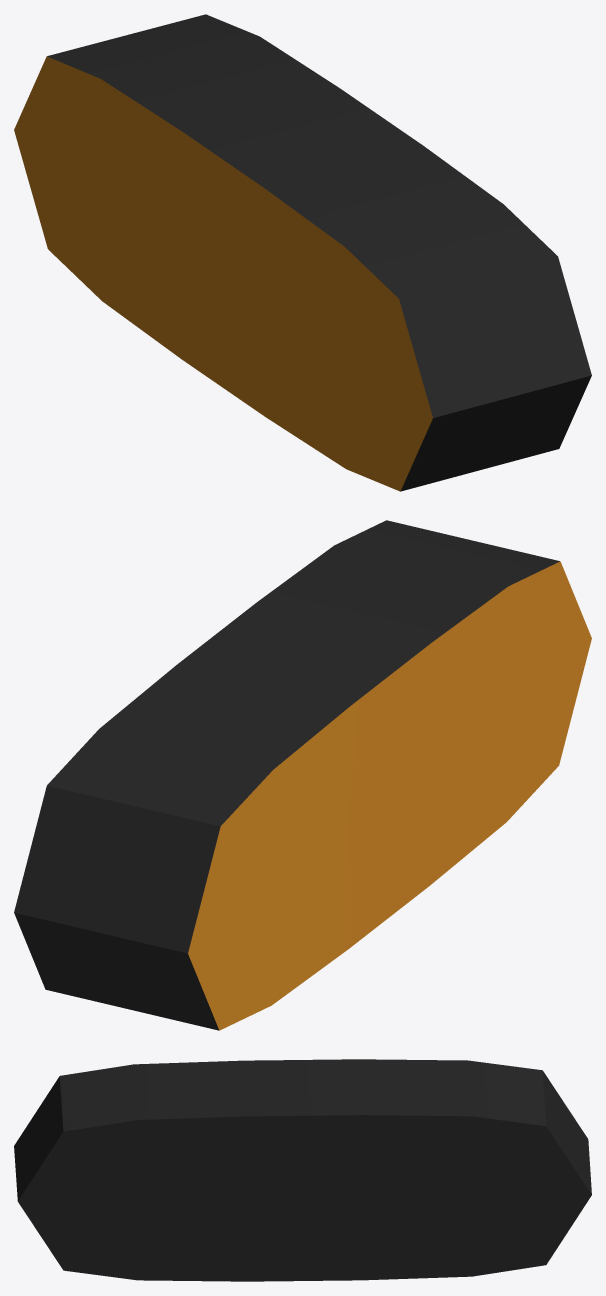
File: side_repeater_R.glb
3 views of the same model, one above another, from view 1: azimuth 30°, elevation 25°; view 2: azimuth 150°, elevation 25°; view 3: azimuth 270°, elevation 25° (orthographic). The views are drawn at different scales.
Visible parts, largest first — view 1: side_repeater_R; view 2: side_repeater_R; view 3: side_repeater_R.
Boxes of the visible parts, box(x1,y1,x2,y2) form: side_repeater_R: box(14, 14, 591, 491); side_repeater_R: box(14, 520, 591, 1030); side_repeater_R: box(14, 1059, 591, 1281).
Bounding box in the file's own units: 0.0156 × 0.0191 × 0.0604.
